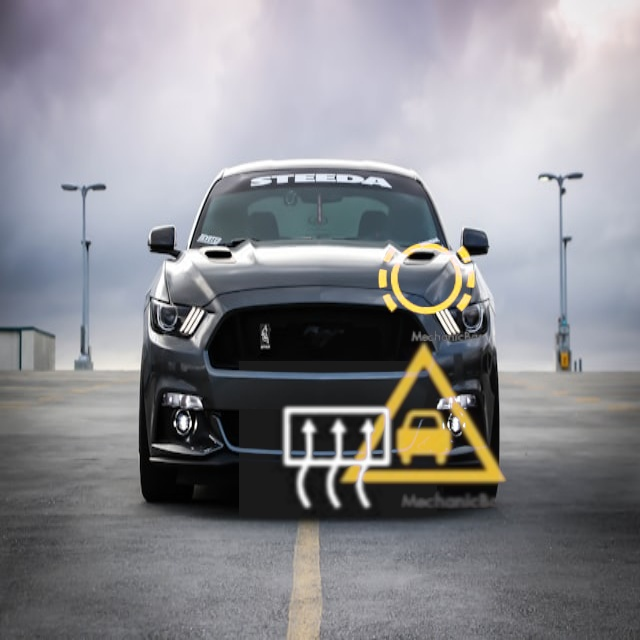symbol: (322, 315, 525, 518), (239, 361, 437, 559), (358, 211, 495, 348)
